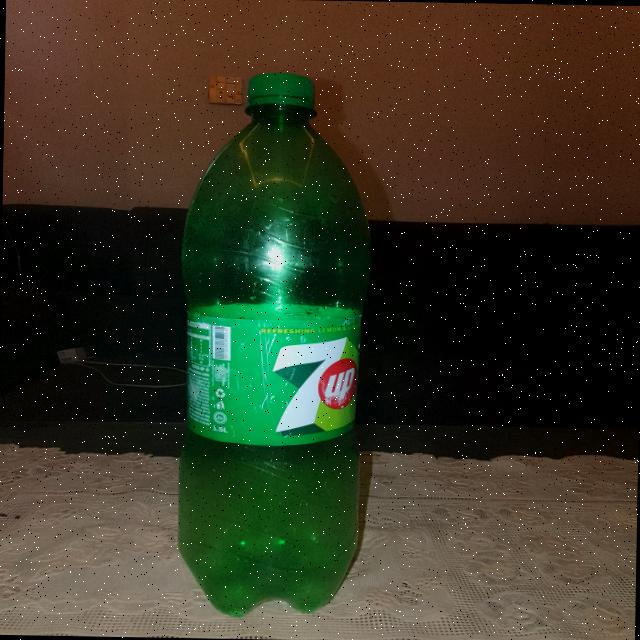bottle: (147, 56, 410, 622)
cap: (234, 66, 328, 116)
label: (170, 300, 379, 457)
